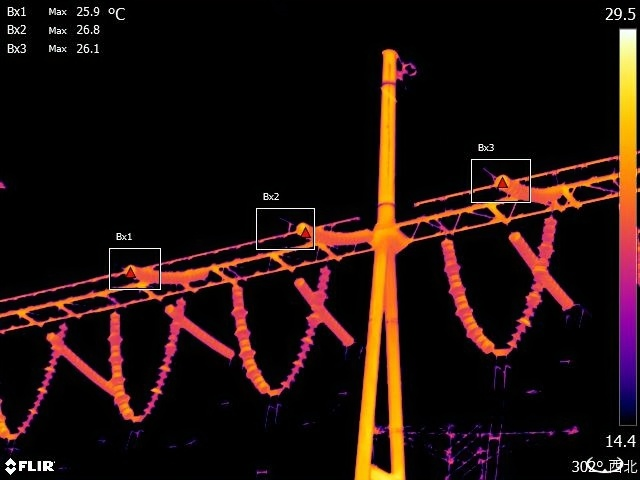insulator: (503, 208, 560, 351), (280, 264, 331, 398), (441, 234, 495, 355), (504, 227, 579, 313), (20, 321, 71, 437), (229, 280, 276, 402), (143, 294, 187, 419), (294, 272, 352, 351), (44, 329, 109, 398), (159, 302, 235, 359), (107, 304, 141, 430), (490, 173, 569, 207), (290, 221, 378, 249), (118, 260, 215, 285)
